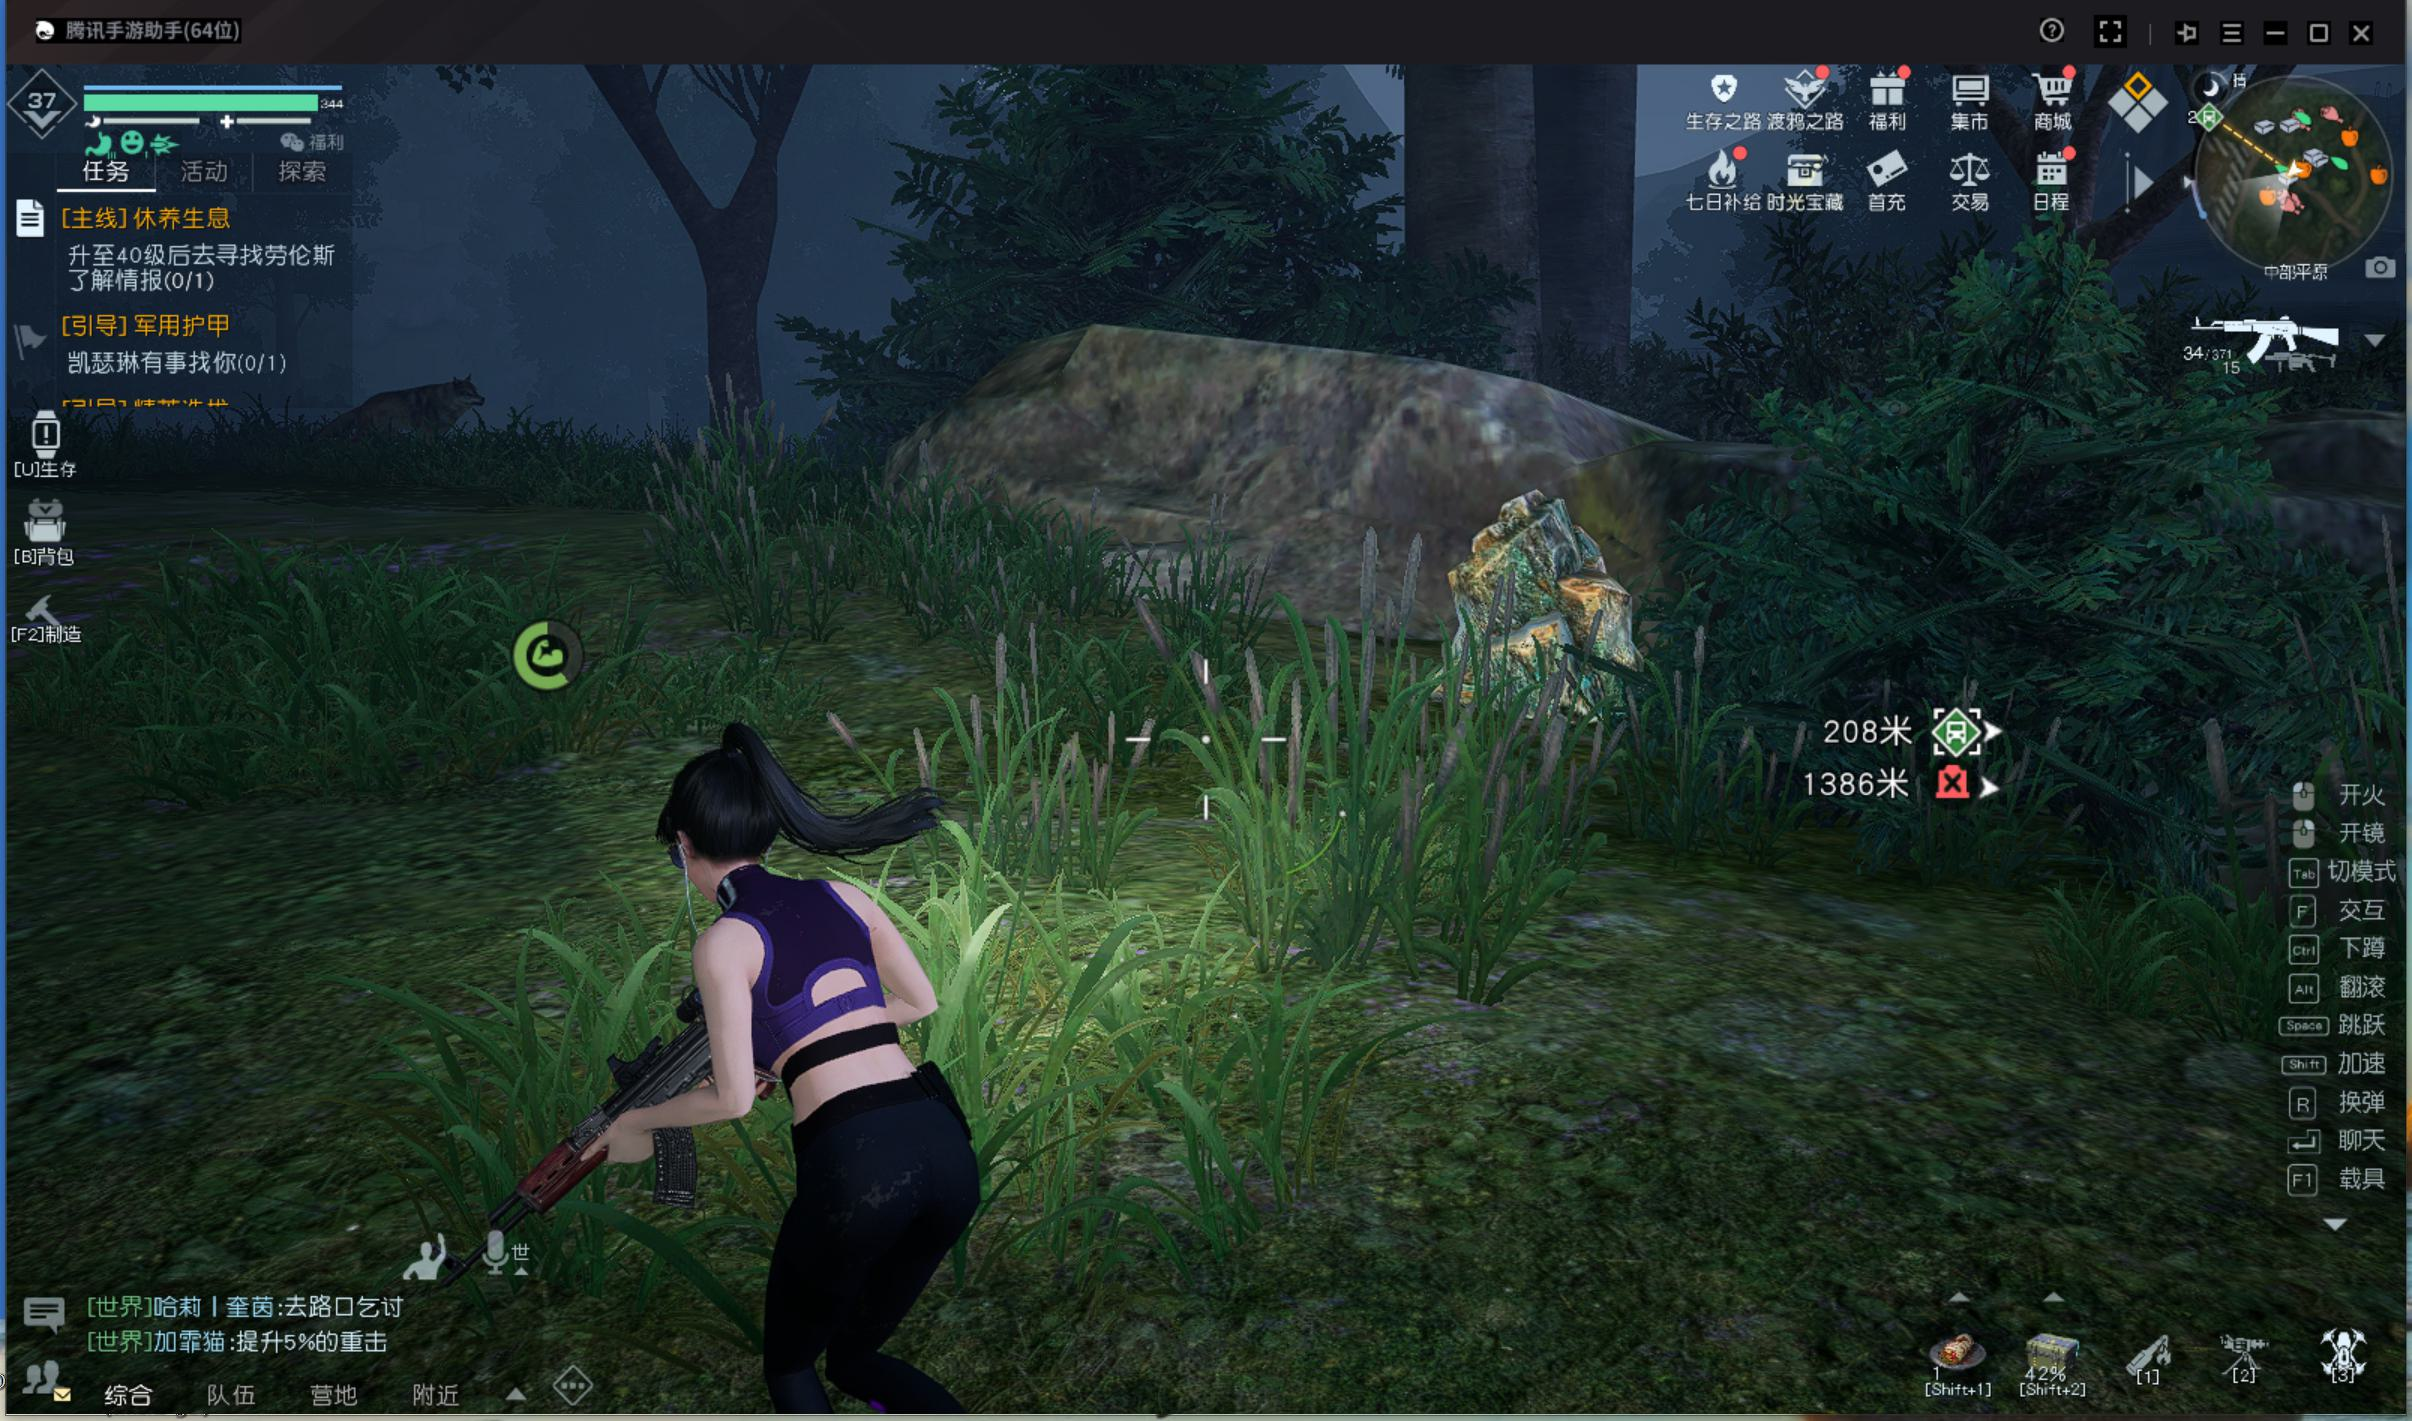stone: (1411, 452, 1698, 778)
tree: (665, 162, 809, 502)
